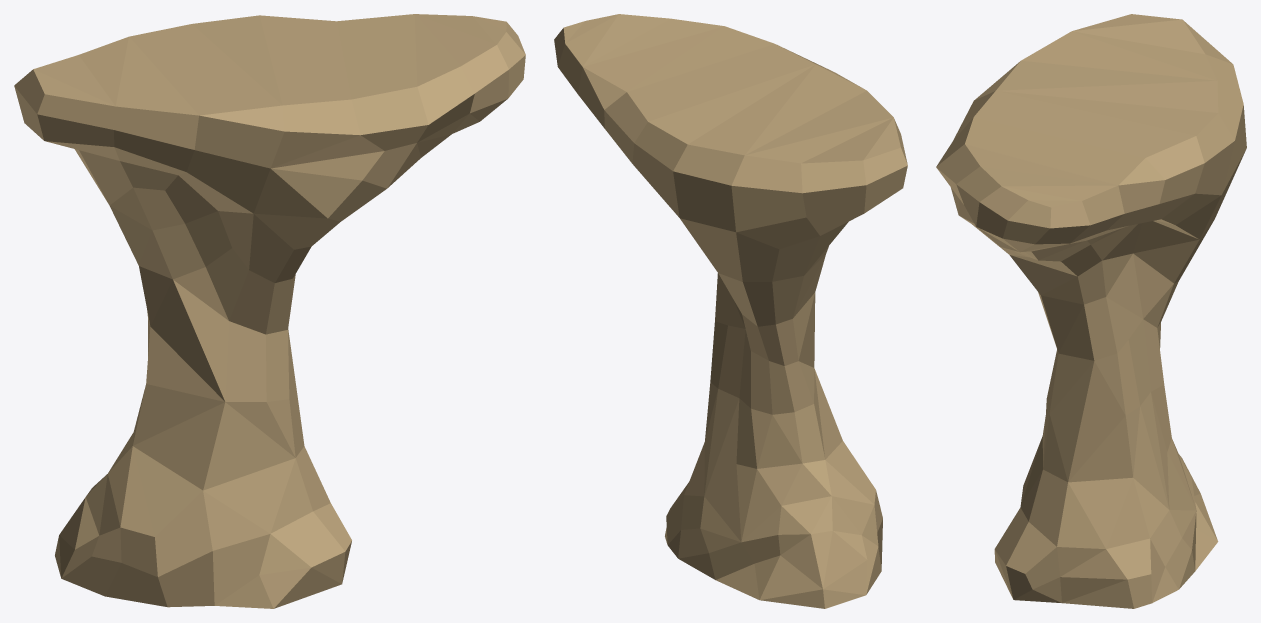
The model's file is Pillar-B07.fbx.
3 renders of one model, left to right at view 1: azimuth 30°, elevation 25°; view 2: azimuth 150°, elevation 25°; view 3: azimuth 270°, elevation 25°, orthographic. The views are drawn at different scales.
Parts seen in each view (by area): view 1: Pillar-B07; view 2: Pillar-B07; view 3: Pillar-B07.
Boxes of the visible parts, x1,y1,x2,y2 form: Pillar-B07: [14, 14, 525, 608]; Pillar-B07: [554, 14, 907, 608]; Pillar-B07: [936, 14, 1246, 608].
Bounding box in the file's own units: 306 × 198 × 339.
